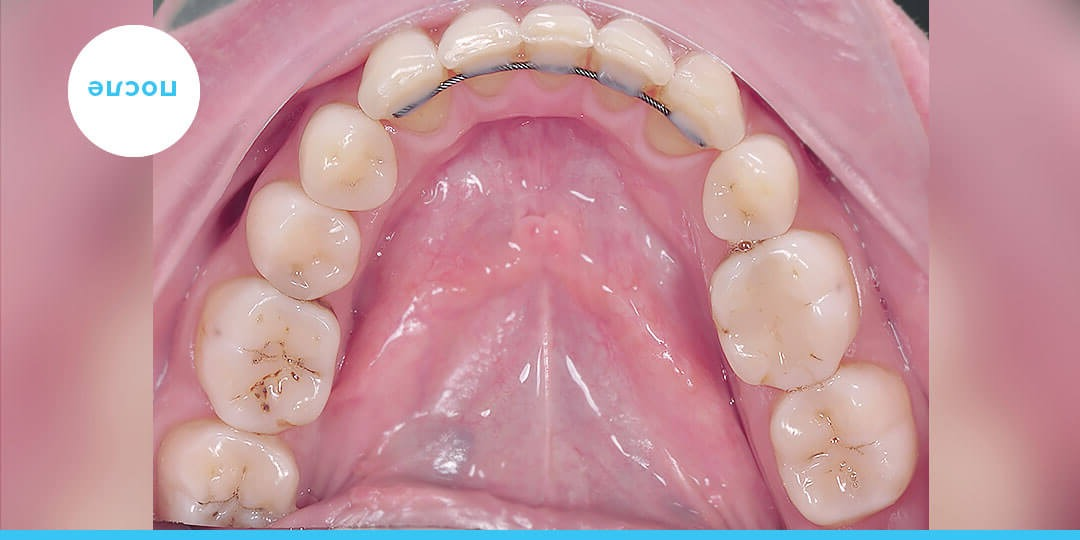ULCI_decay: (522, 4, 593, 87)
UR1BC_healthy: (248, 191, 360, 295), (705, 137, 798, 244)
UR1M_healthy: (770, 380, 911, 515), (160, 426, 301, 525)
UR2BC_decay: (196, 290, 336, 426)
UR2BC_healthy: (715, 240, 858, 384)
URCI_decay: (444, 9, 522, 90)
URC_decay: (665, 58, 745, 159)
URC_healthy: (304, 106, 395, 207)
URLI_decay: (363, 40, 453, 129), (596, 18, 670, 108)
